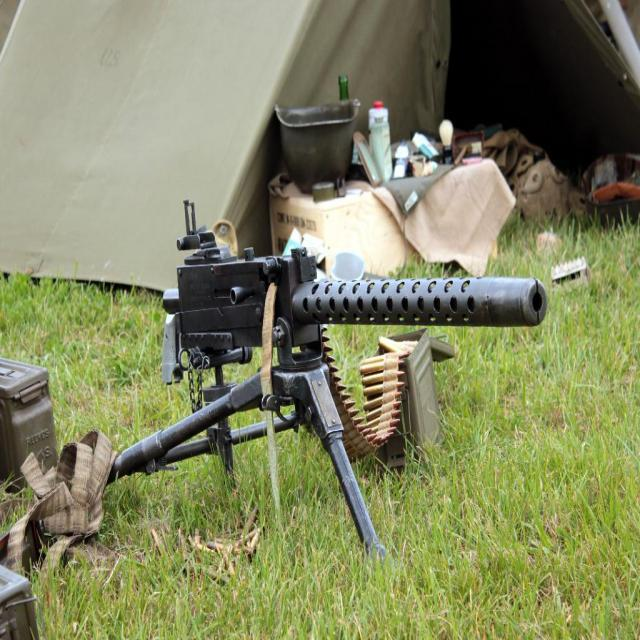weapon: (100, 200, 548, 582)
